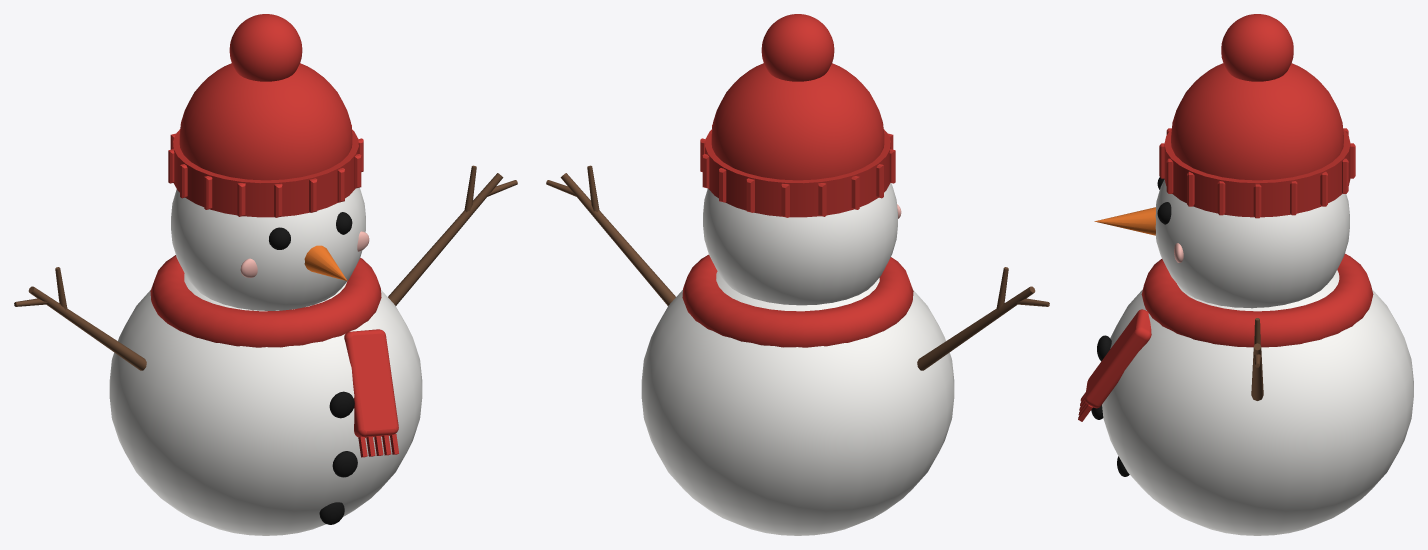
Rendered from snowman.glb.
3 renders of one model, left to right at view 1: azimuth 30°, elevation 25°; view 2: azimuth 150°, elevation 25°; view 3: azimuth 270°, elevation 25°, orthographic.
Visible parts, largest first — view 1: Snow, Hat, Knit, Coal, ArmR, ArmL, Carrot, Rib; view 2: Snow, Hat, Knit, ArmR, ArmL; view 3: Snow, Hat, Knit, Carrot, Coal, ArmR.
Part boxes in pixels (<box>): Snow: <box>109,187,422,535</box>; Hat: <box>168,14,363,217</box>; Knit: <box>150,255,398,437</box>; Coal: <box>269,212,357,524</box>; ArmR: <box>388,165,517,305</box>; ArmL: <box>14,267,146,370</box>; Carrot: <box>304,245,347,281</box>; Rib: <box>358,434,398,457</box>; Snow: <box>641,183,954,535</box>; Hat: <box>700,14,895,217</box>; Knit: <box>682,254,913,347</box>; ArmR: <box>546,165,675,305</box>; ArmL: <box>917,267,1049,370</box>; Snow: <box>1102,179,1413,535</box>; Hat: <box>1159,14,1355,218</box>; Knit: <box>1085,253,1373,408</box>; Carrot: <box>1094,207,1155,235</box>; Coal: <box>1091,177,1171,476</box>; ArmR: <box>1251,318,1263,400</box>.
Bounding box in the file's own units: 0.4603 × 0.441 × 0.2669.
